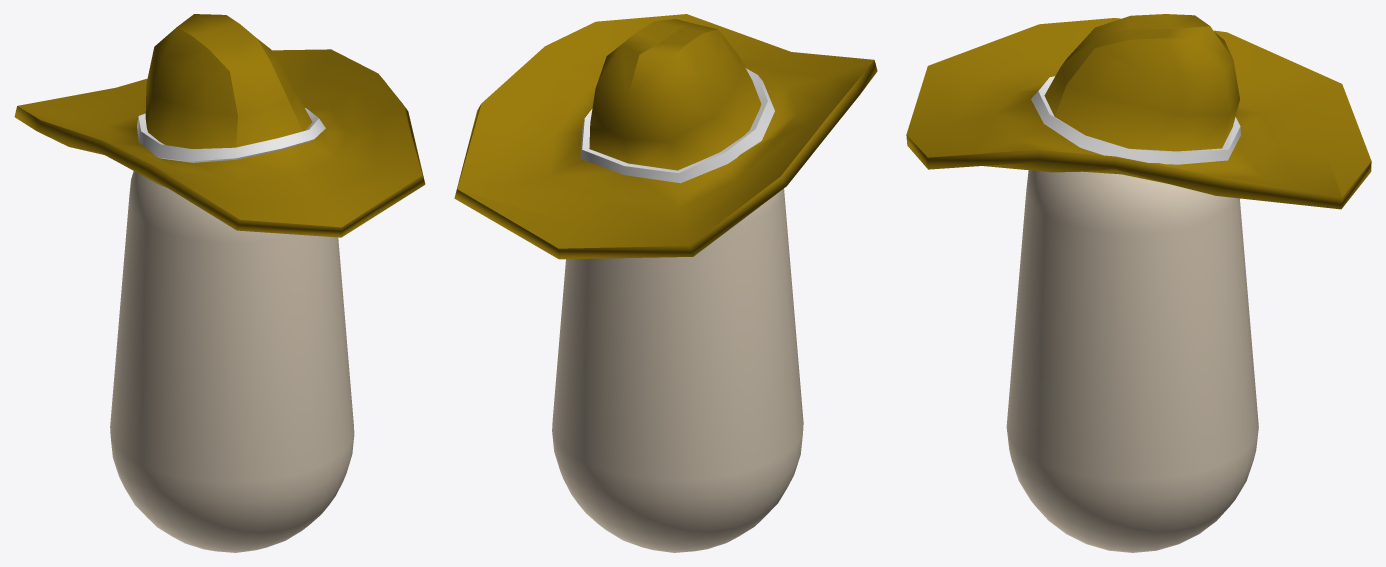
Rendered from FTDA_Cowbean_V1.fbx.
3 views of the same model, side by side, from view 1: azimuth 30°, elevation 25°; view 2: azimuth 150°, elevation 25°; view 3: azimuth 270°, elevation 25° (orthographic). The views are drawn at different scales.
Parts seen in each view (by area): view 1: Capsule1; view 2: Capsule1; view 3: Capsule1.
Part boxes in pixels (x1,y1,x2,y2): Capsule1: (14,14,425,552); Capsule1: (454,14,877,552); Capsule1: (906,14,1371,552).
Bounding box in the file's own units: 142 × 225 × 184.
